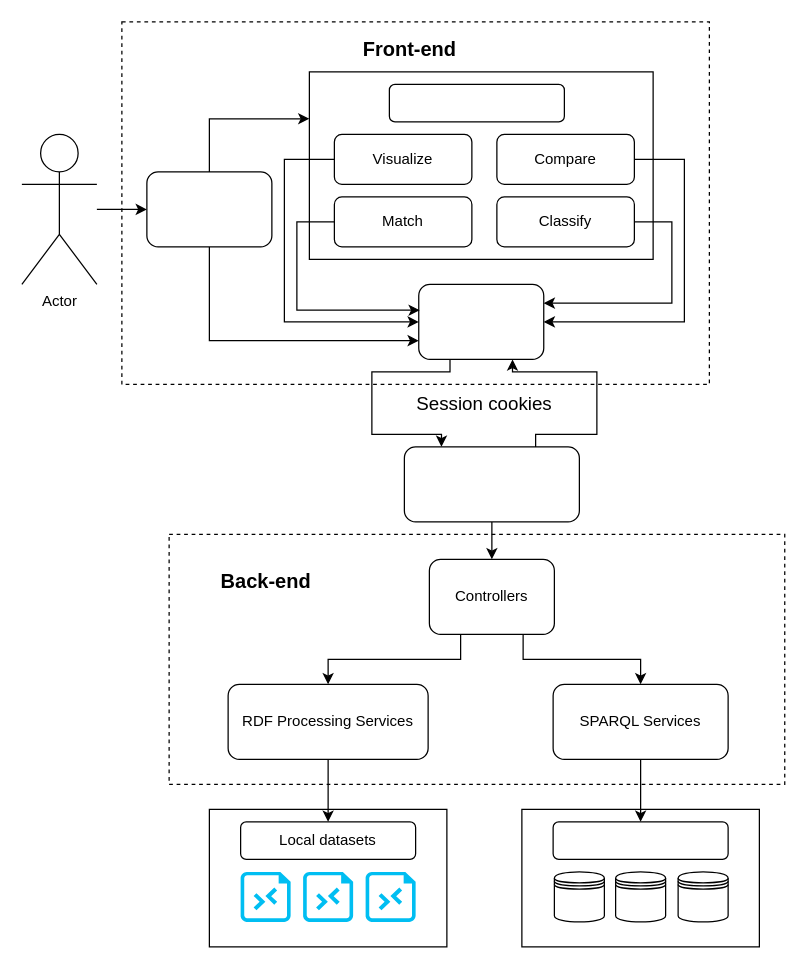
Image size: 808x969. Some labels were removed from this diagram. The shapes that lost their labels are listed below. From the top down, each one's centre as x and y in pixels, then its label:
At point 476,102: "Reusable Components".
At point 209,209: "React Frontend".
At point 481,321: "Services".
At point 491,484: "Express.js Server".
At point 640,840: "Remote SPARQL Endpoints".
